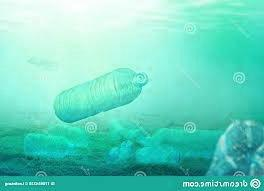Plastic: (30, 48, 157, 140)
